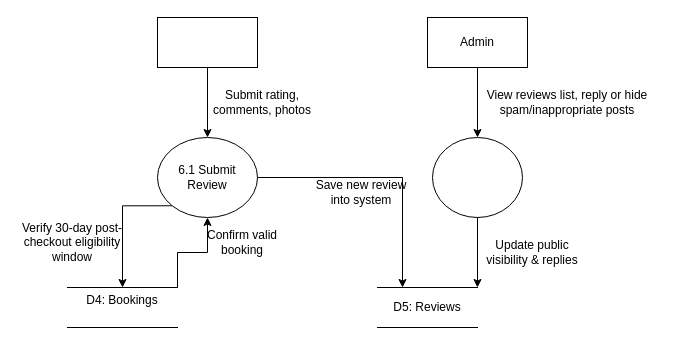
Some shapes in this 674 by 354 pixel diagram are drawn without their labels. The centre of each missing label's shape, as x and y in pixels:
"6.2 Moderate Reviews" belongs at (477,177).
"User" belongs at (207,42).
